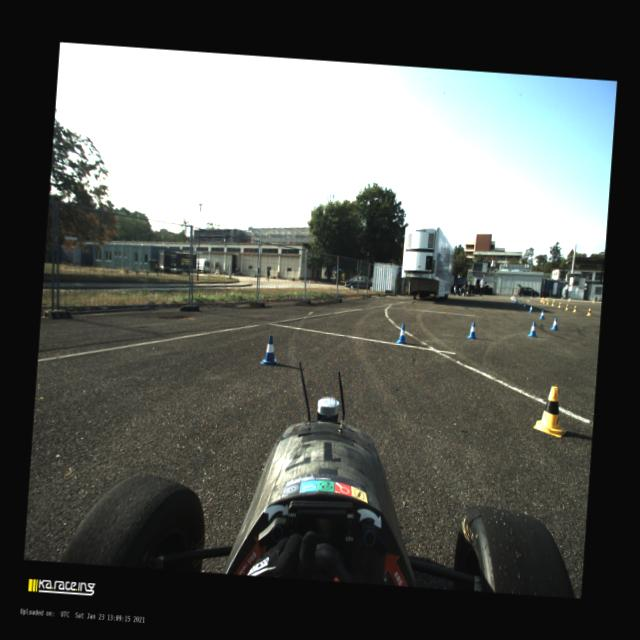blue_cone: (260, 334, 281, 366), (396, 322, 408, 343), (466, 321, 477, 338), (527, 322, 538, 336), (550, 318, 559, 330), (538, 310, 546, 318), (528, 304, 534, 312), (522, 302, 526, 308), (518, 300, 521, 306), (516, 298, 518, 304), (512, 296, 514, 301), (514, 298, 516, 302), (510, 296, 512, 300), (520, 295, 522, 299), (530, 295, 532, 299)
large_orange_cone: (511, 294, 514, 300), (541, 296, 543, 302)
yellow_cone: (532, 385, 569, 438), (586, 308, 590, 316), (572, 305, 576, 312), (565, 304, 568, 310), (558, 302, 560, 308), (546, 300, 549, 304), (543, 298, 545, 304), (552, 296, 554, 302), (552, 300, 554, 305), (540, 297, 542, 302), (592, 298, 594, 303), (568, 298, 570, 302)
